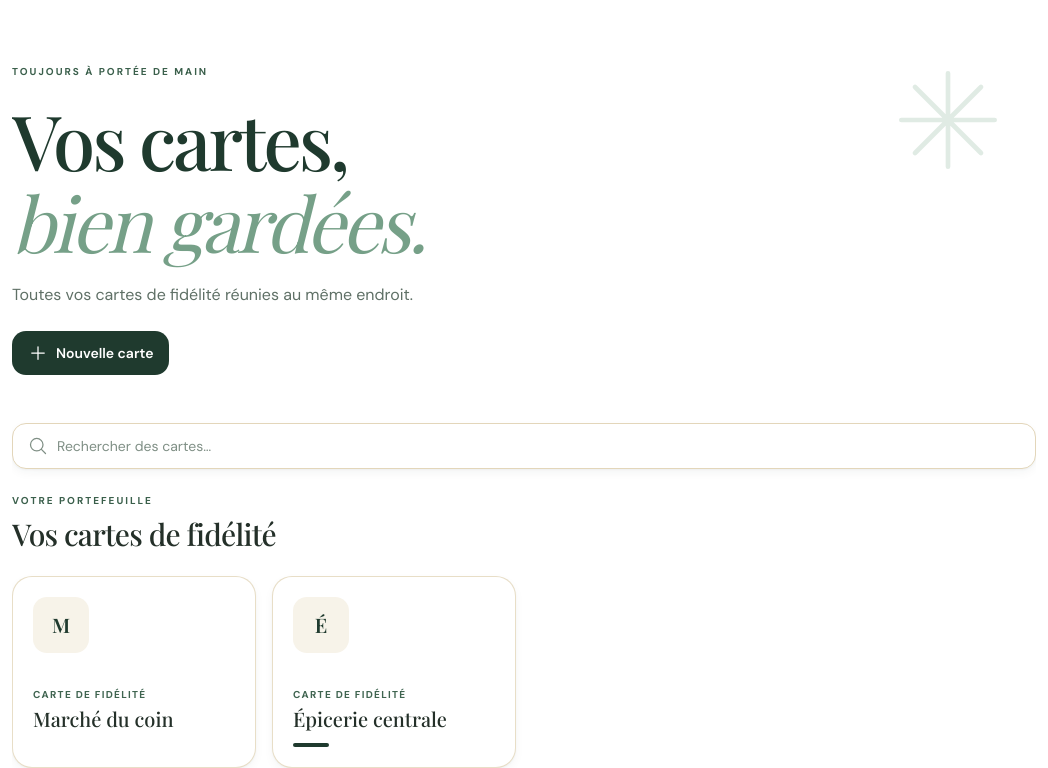
it: LoyaltyCardsPage › filters cards without showing the empty-collection state
Type "introuvable" into the field named "Rechercher des cartes de fidélité".
click(524, 446); type("introuvable")  # box [12,423,1036,469]
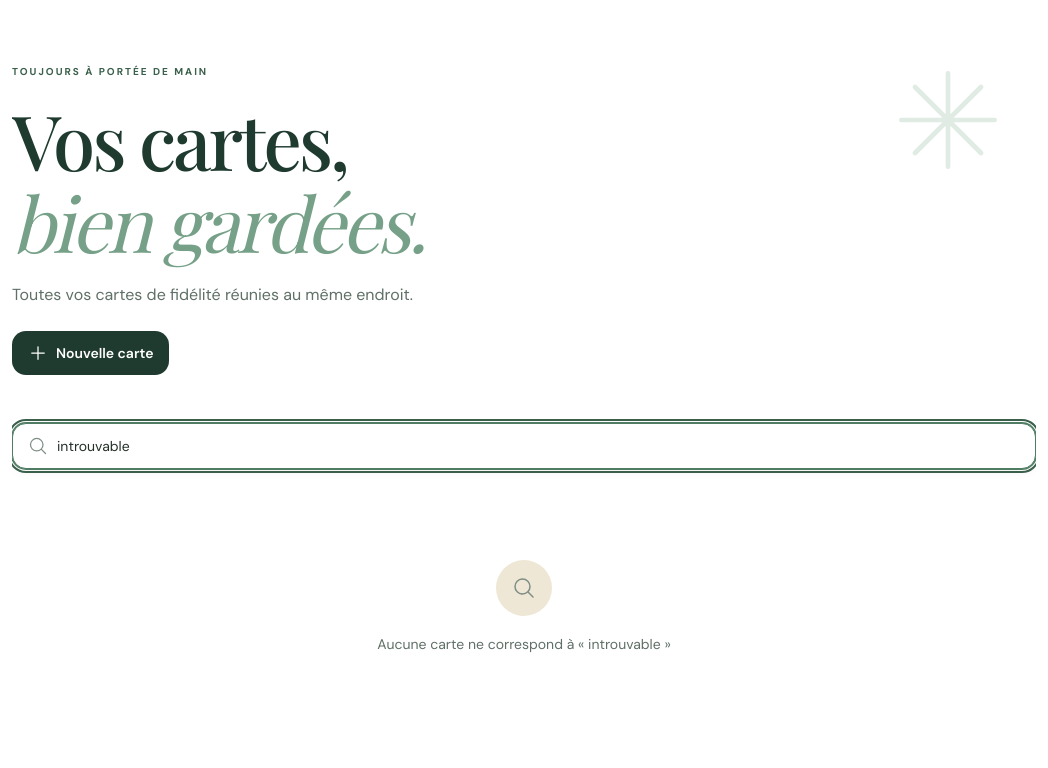
Check: the text "Aucune carte ne correspond à « introuvable »" is shown, box [377,632,671,656]
